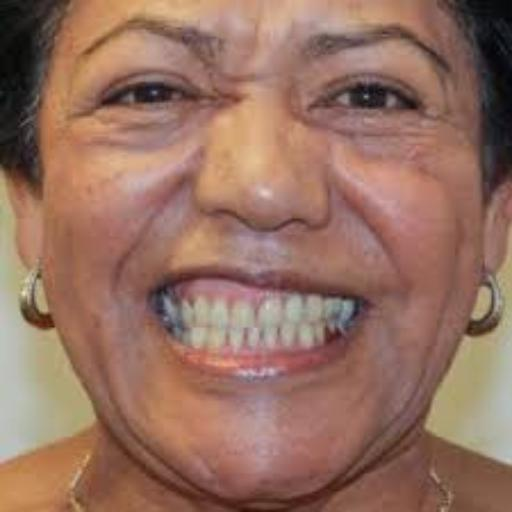left_eye: (305, 83, 418, 123)
left_lip_corner: (350, 291, 390, 320)
right_eye: (105, 83, 195, 116)
right_lip_corner: (131, 281, 178, 318)
